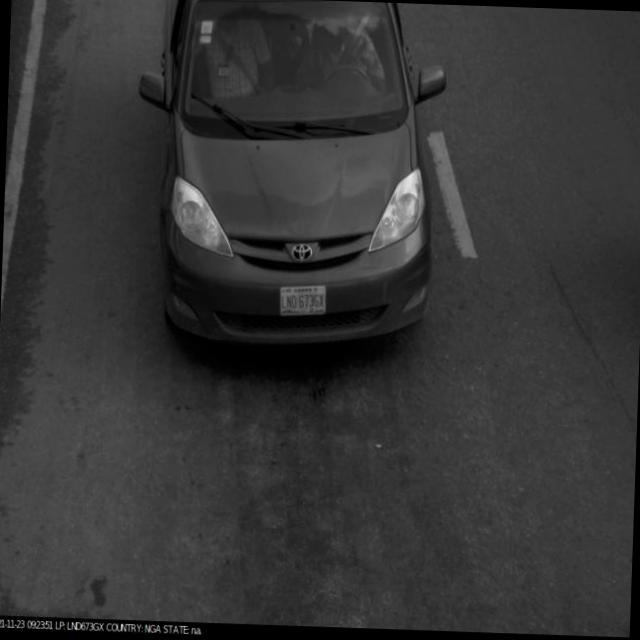person_with_seatbelt: (299, 0, 392, 101)
